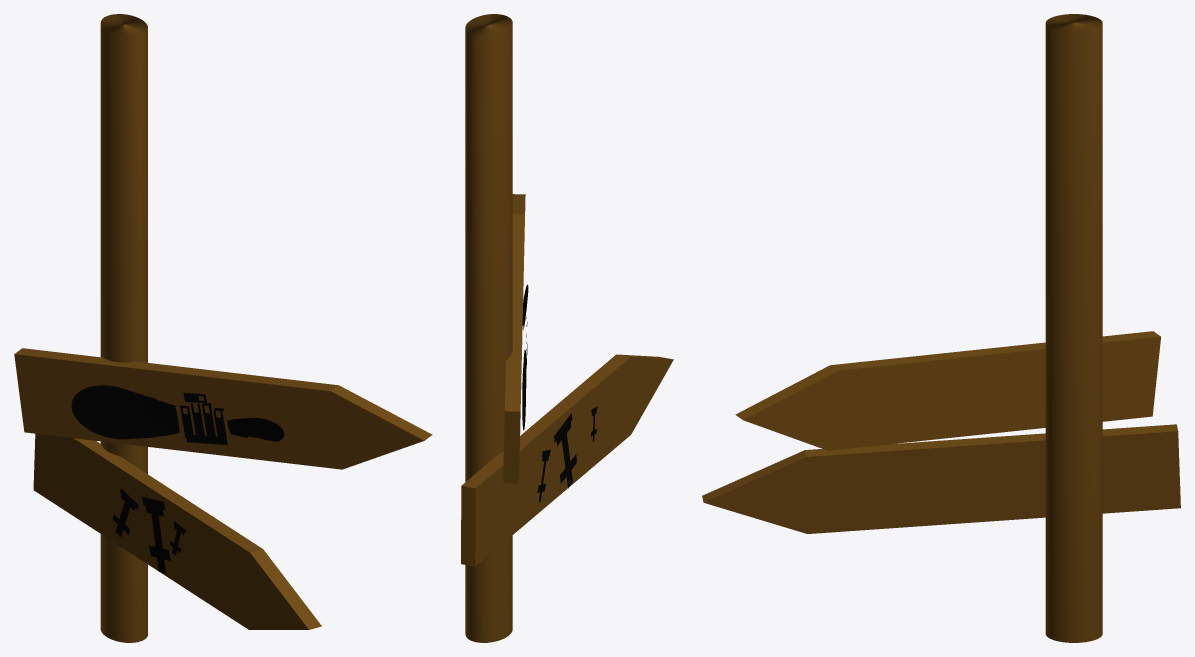
The model's file is ukazatelukazateldvoynoy.fbx.
3 renders of one model, left to right at view 1: azimuth 30°, elevation 25°; view 2: azimuth 150°, elevation 25°; view 3: azimuth 270°, elevation 25°, orthographic.
Visible parts, largest first — view 1: Cube.003, Cylinder, Cube.001, Cylinder.001, Plane.002, Plane.006; view 2: Cylinder, Cube.001, Cube.003, Plane.002, Cylinder.001; view 3: Cylinder, Cube.001, Cube.003.
Part boxes in pixels (box(x1,y1,x2,y2)): Cube.003: box(14, 348, 432, 469); Cylinder: box(100, 14, 147, 642); Cube.001: box(33, 433, 321, 629); Cylinder.001: box(71, 385, 284, 441); Plane.002: box(112, 488, 185, 573); Plane.006: box(180, 392, 227, 445); Cylinder: box(465, 14, 512, 642); Cube.001: box(461, 354, 673, 566); Cube.003: box(503, 194, 525, 483); Plane.002: box(537, 406, 597, 502); Cylinder.001: box(522, 284, 528, 430); Cylinder: box(1045, 14, 1102, 642); Cube.001: box(702, 424, 1180, 533); Cube.003: box(735, 331, 1160, 450).
Size of the model in its own units: 119 by 320 by 228.
